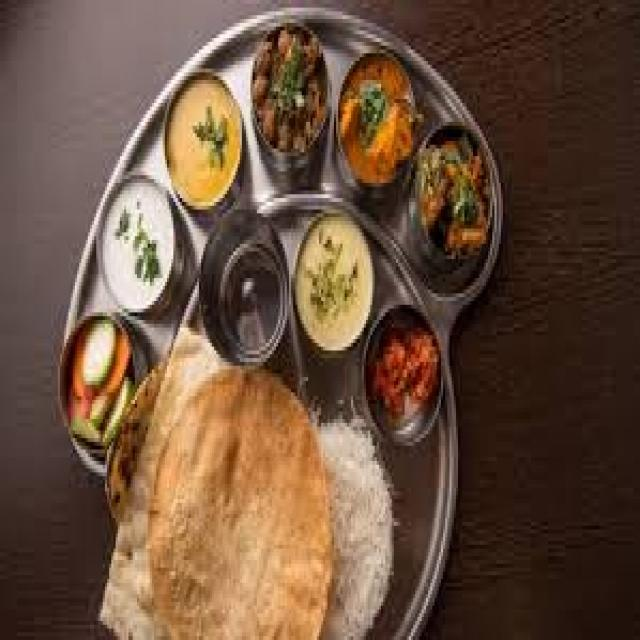dal: (287, 209, 386, 364), (153, 65, 251, 216)
raita: (84, 158, 193, 327)
roti: (102, 350, 344, 640)
sweet: (205, 226, 292, 369), (360, 307, 450, 441)
veg-fry: (356, 308, 447, 444)
